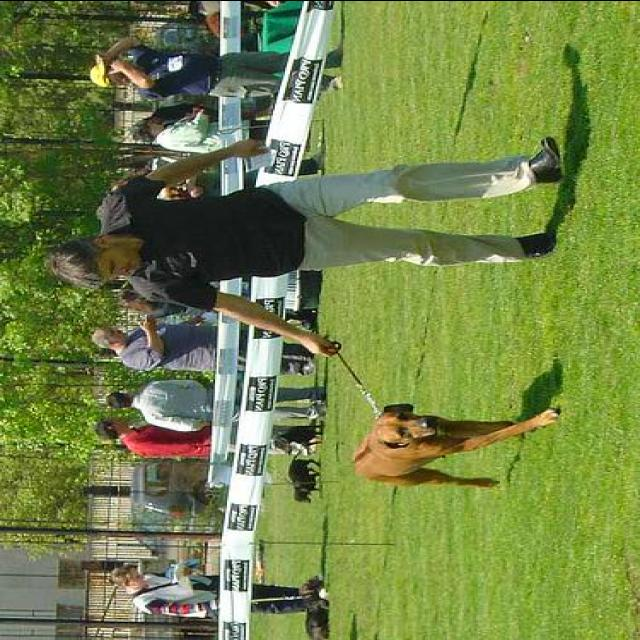rhodesian_ridgeback: (345, 400, 560, 490)
